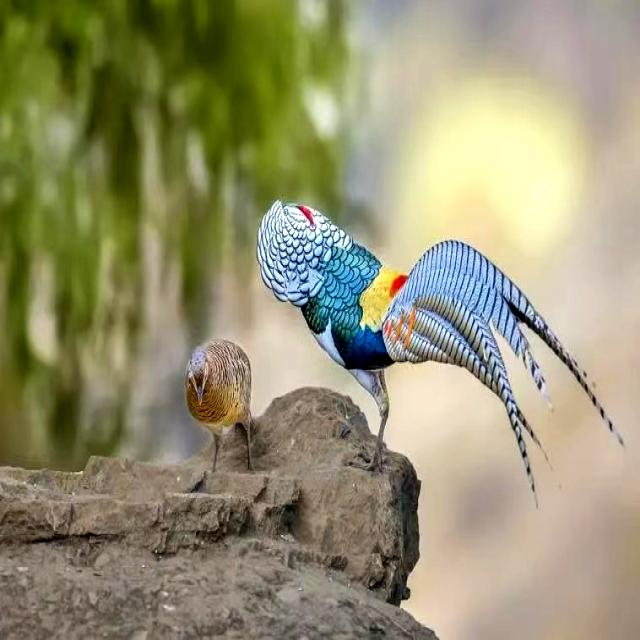Chrysolophus amherstiae: (378, 235, 632, 525)
